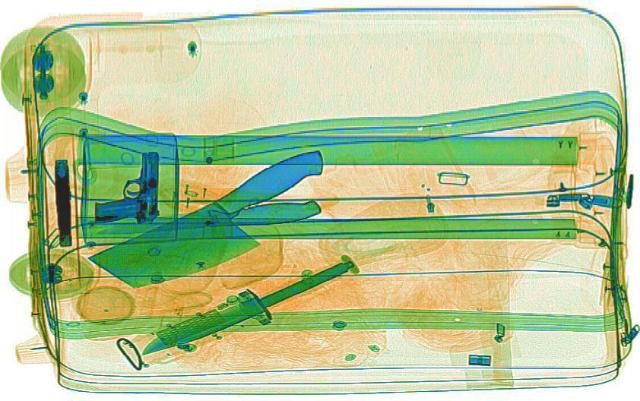Gun: (92, 149, 158, 222), (50, 157, 72, 244)
Knife: (79, 145, 377, 298), (129, 253, 355, 359), (94, 197, 323, 242)
